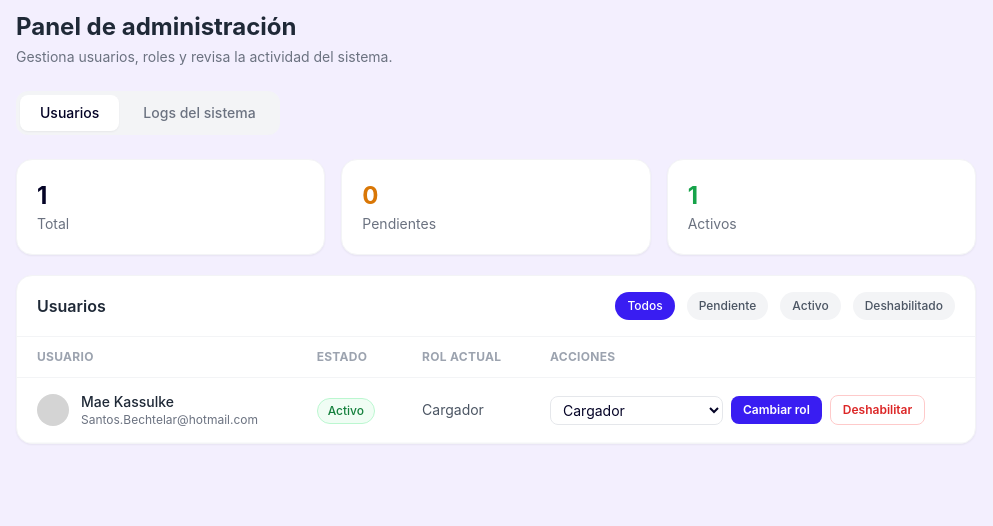
Test: UsersTab › shows error when disableUser fails
Click the button "Deshabilitar". click: (878, 410)
box: [830,395,925,425]
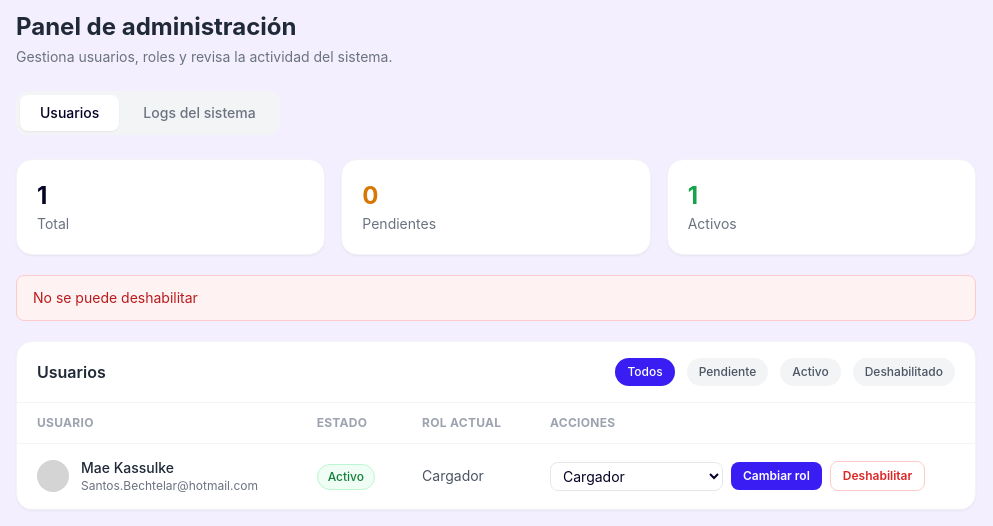
Now the text "No se puede deshabilitar" is shown, box [16,275,976,321]
